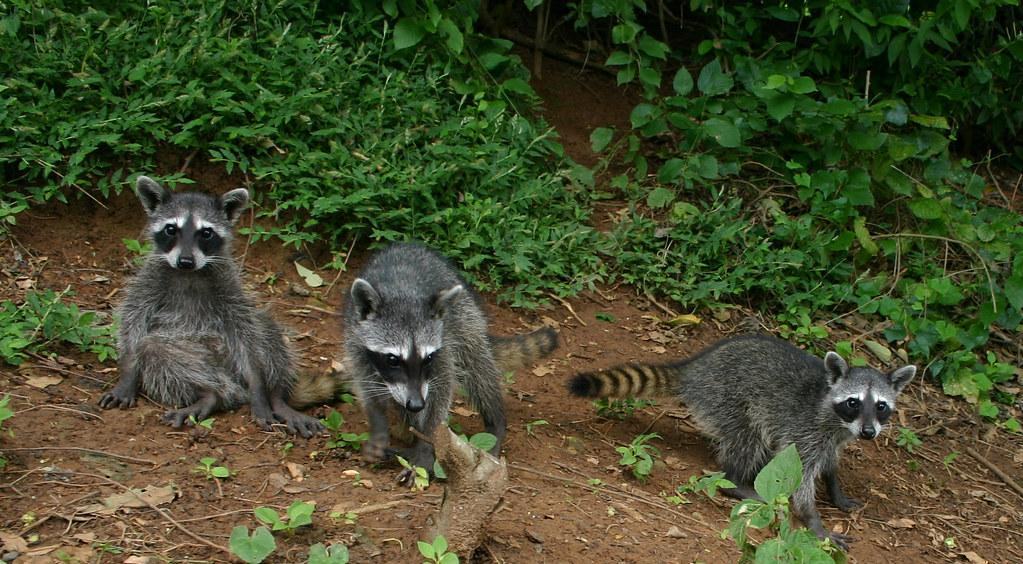raccoon: (566, 328, 920, 530), (98, 172, 317, 443), (344, 234, 561, 482)
